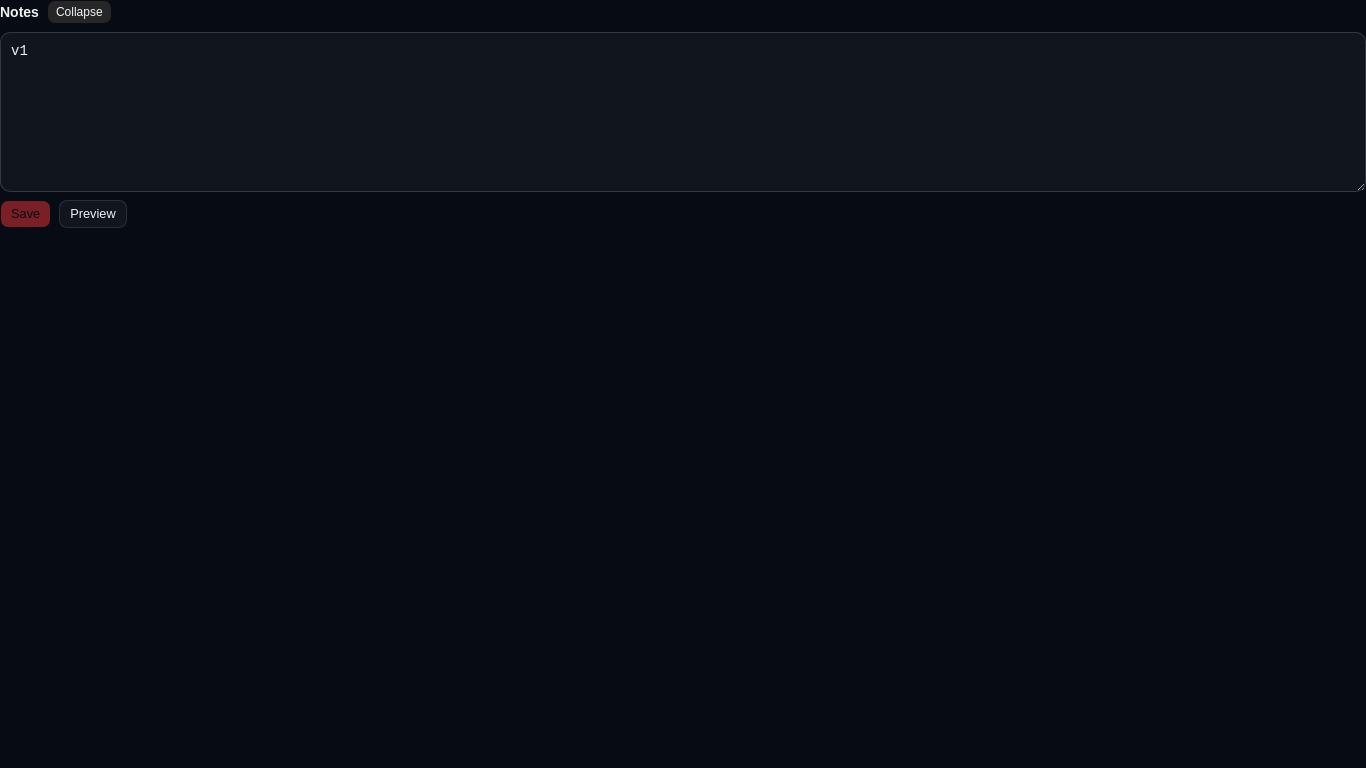
Test: NotesEditor › opens the conflict dialog, and Overwrite re-reads the hash before writing
The width and height of the screenshot is (1366, 768).
Replace the text in the text box named "Notes text" with "mine" at {"x": 683, "y": 112}, box [0,32,1365,192]
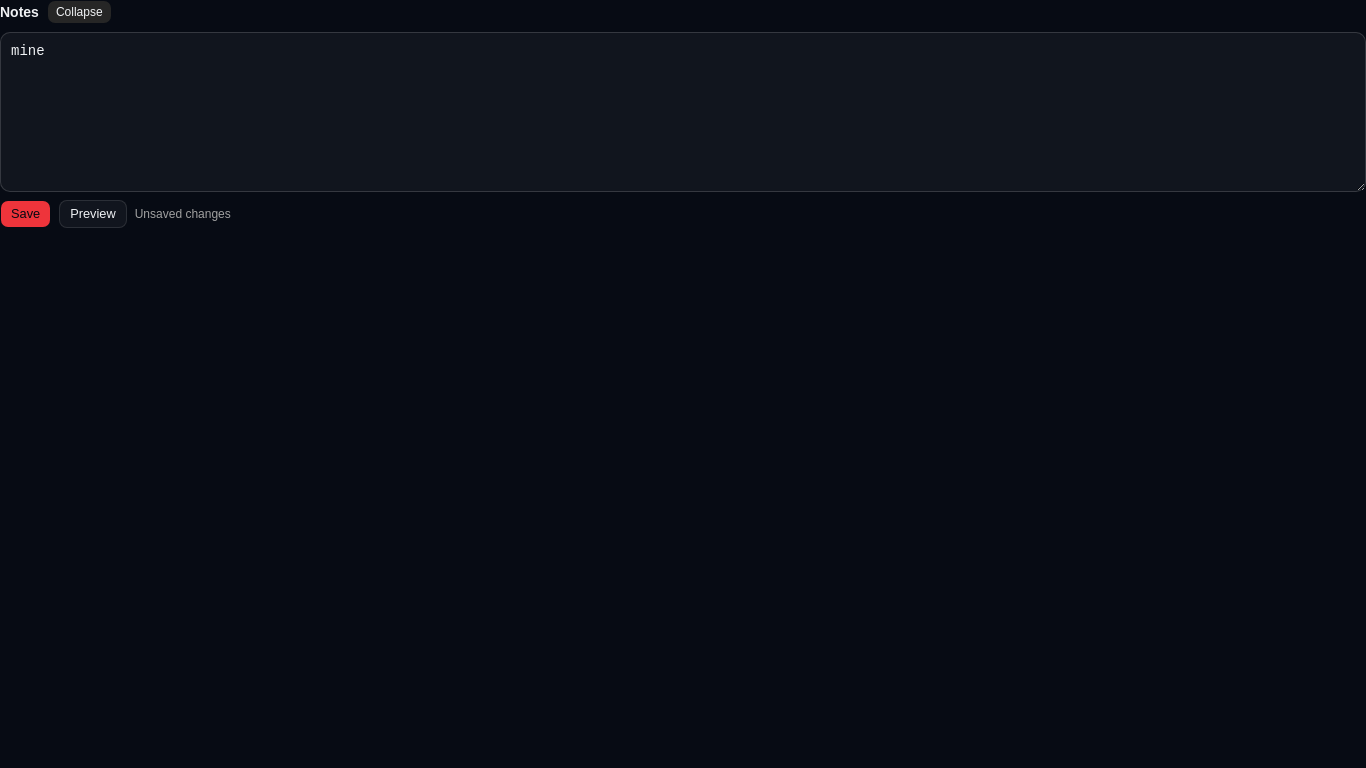
Click the button "Save" at {"x": 26, "y": 214}, box [0,200,51,228]
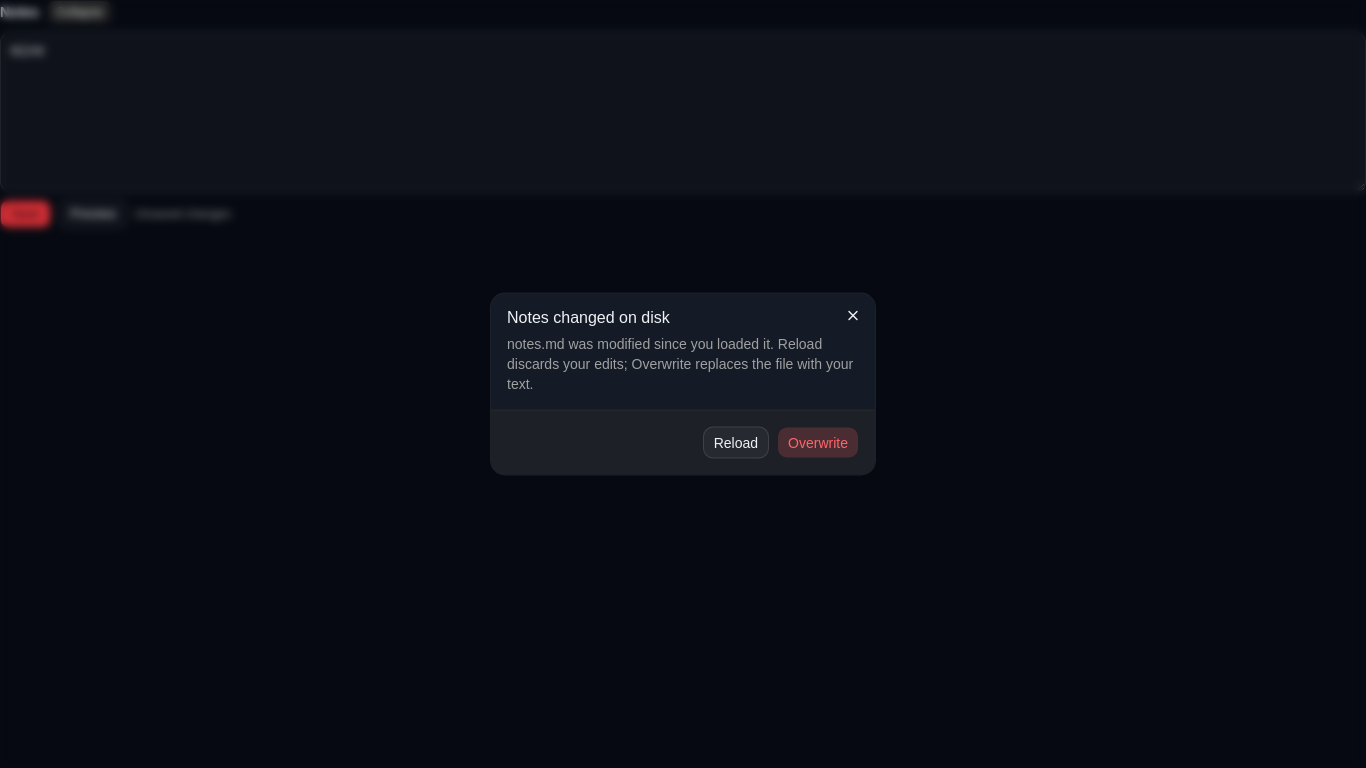
Now the heading "Notes changed on disk" is shown, box [507,308,670,326]
Click the button "Overwrite" at {"x": 818, "y": 442}, box [777,426,859,458]
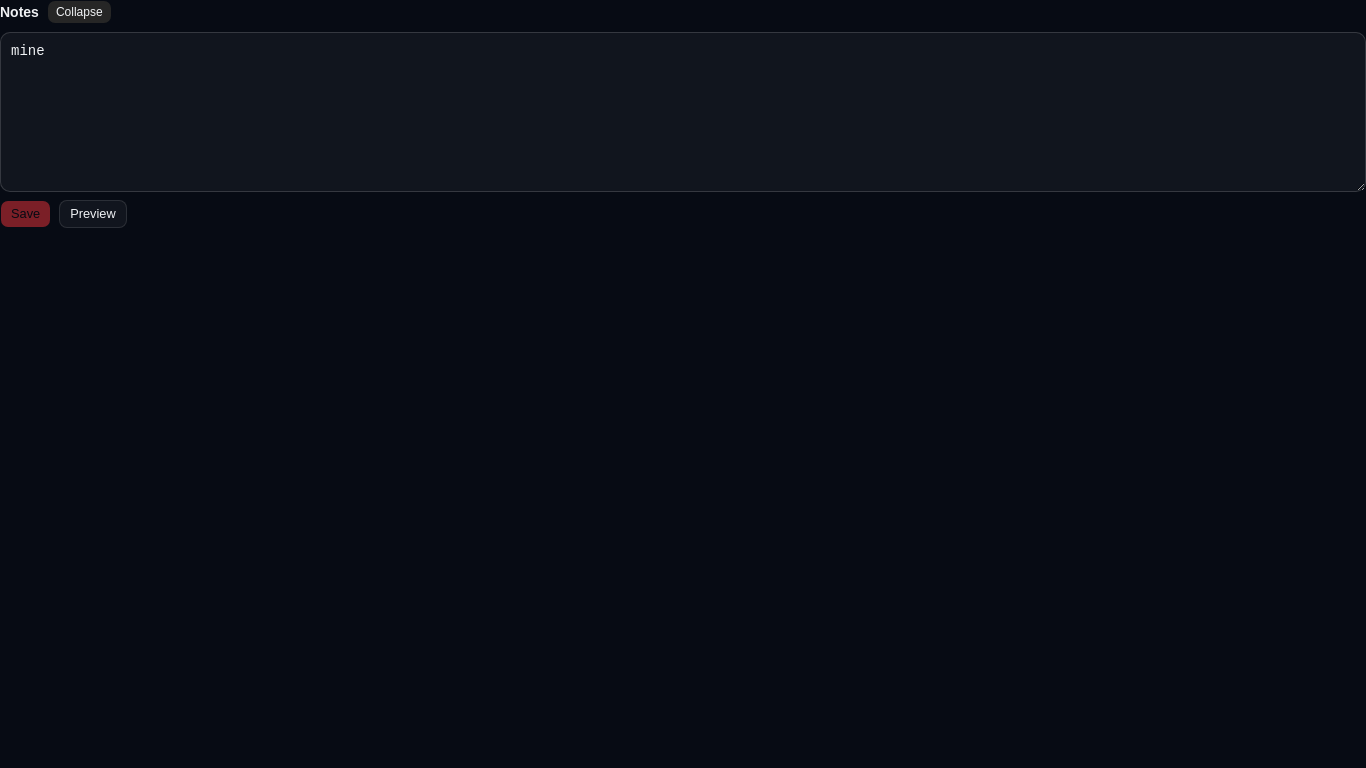
Now the heading "Notes changed on disk" is gone
